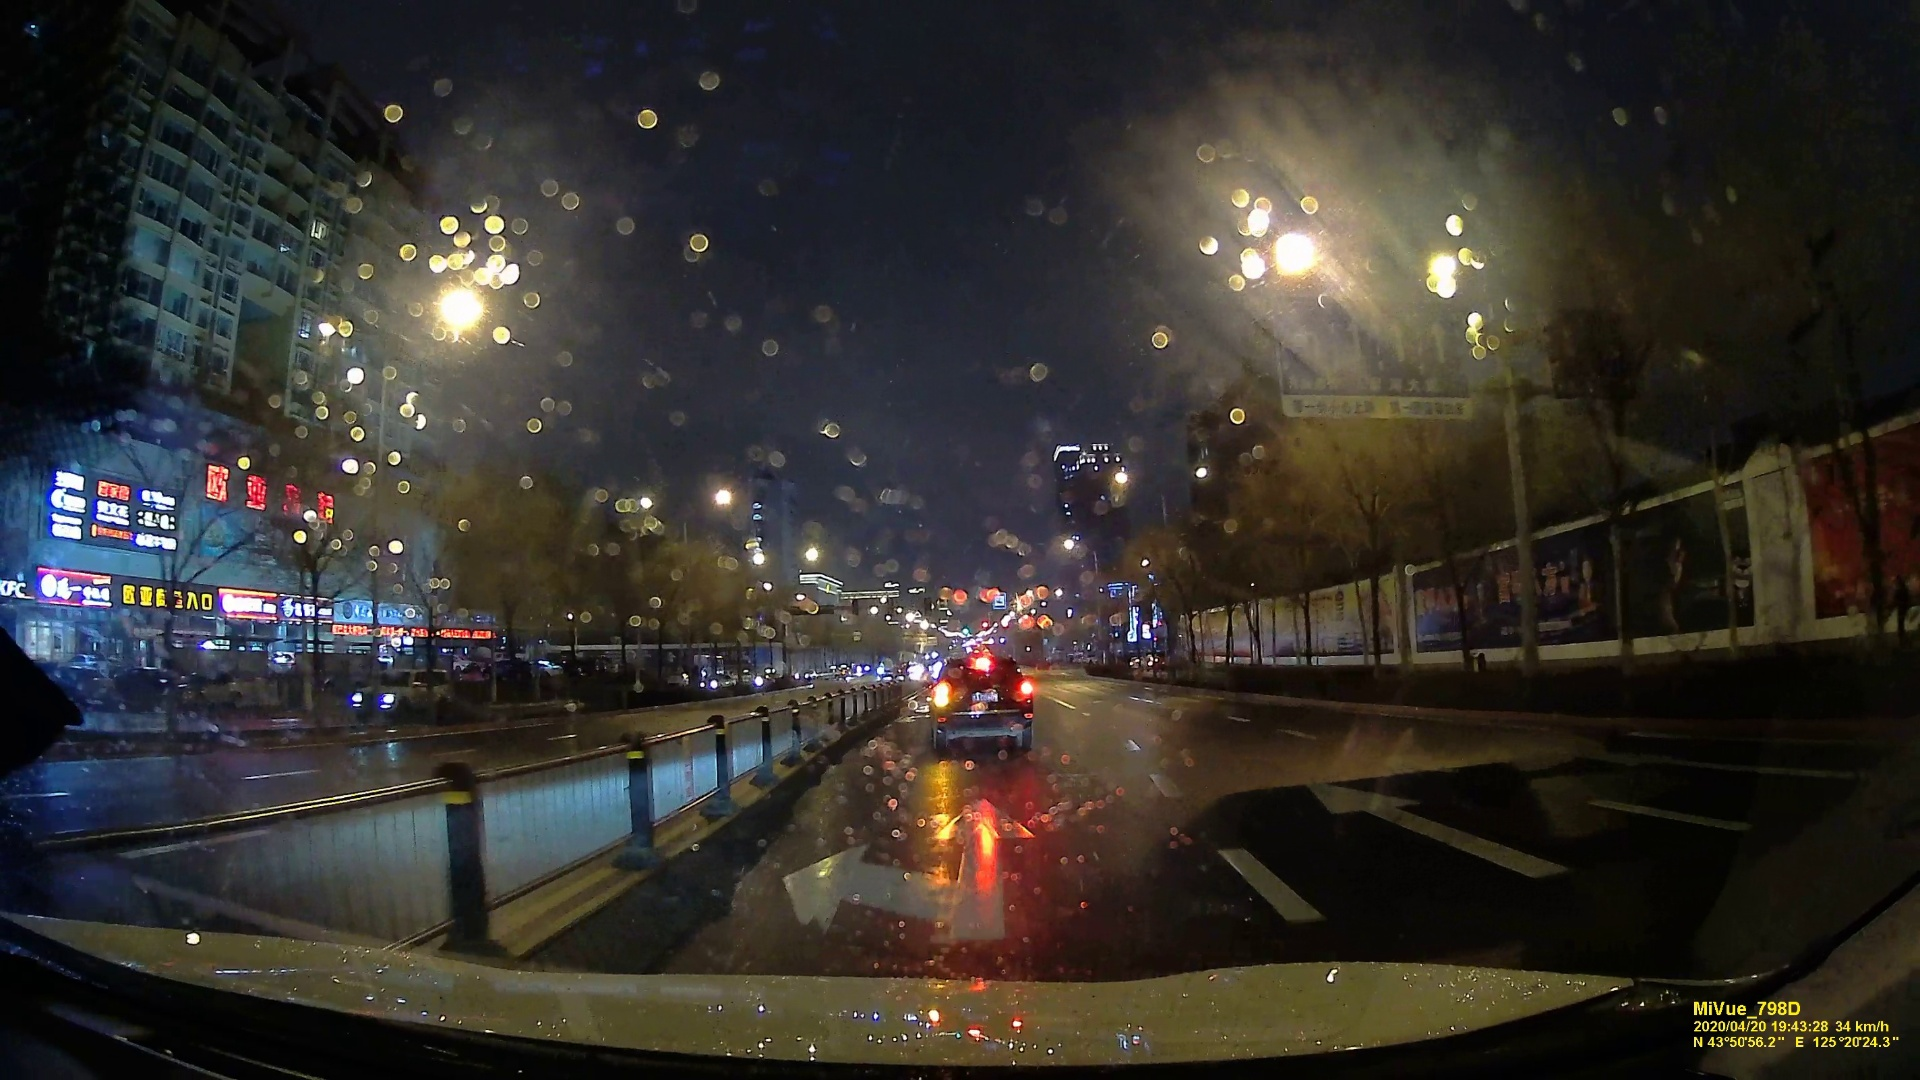traffic_sign: (1280, 287, 1480, 425)
vehicle: (928, 658, 1034, 756), (349, 667, 452, 723)
